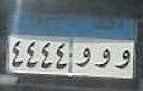4: (54, 42, 68, 70), (39, 40, 52, 70), (26, 40, 36, 70), (12, 39, 21, 68)
waw: (74, 47, 92, 69), (94, 48, 111, 69), (116, 49, 131, 69)
